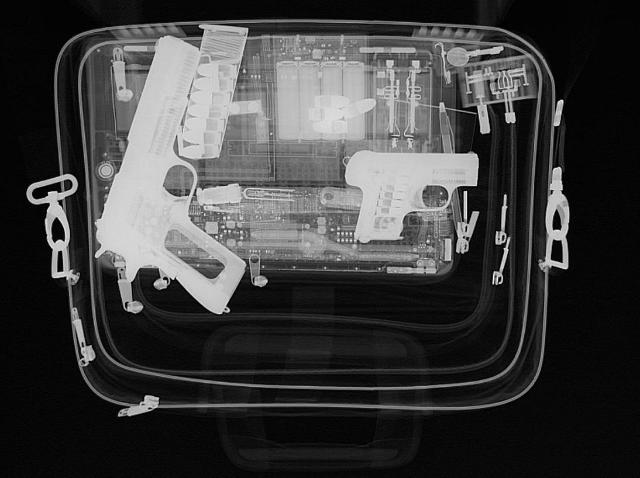Gun: (86, 31, 250, 315), (338, 148, 484, 240)
